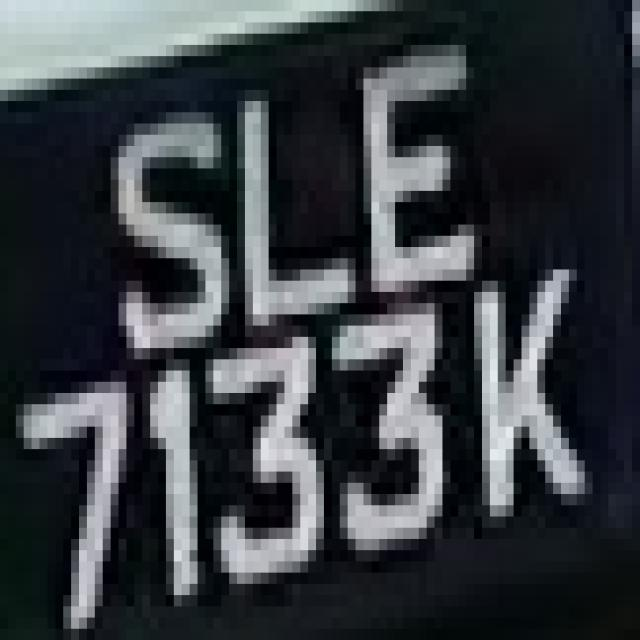1: (119, 359, 221, 606)
3: (213, 314, 340, 584), (340, 314, 458, 562)
7: (32, 359, 142, 629)
E: (348, 11, 498, 326)
K: (466, 269, 601, 562)
L: (214, 101, 372, 348)
S: (95, 78, 221, 382)
